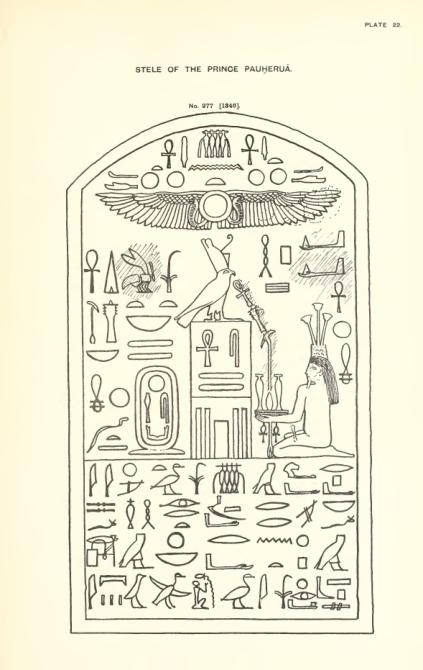circle: (131, 363, 184, 456)
